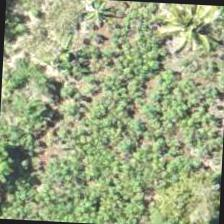Kelapa_Sawit: (132, 1, 223, 72)
